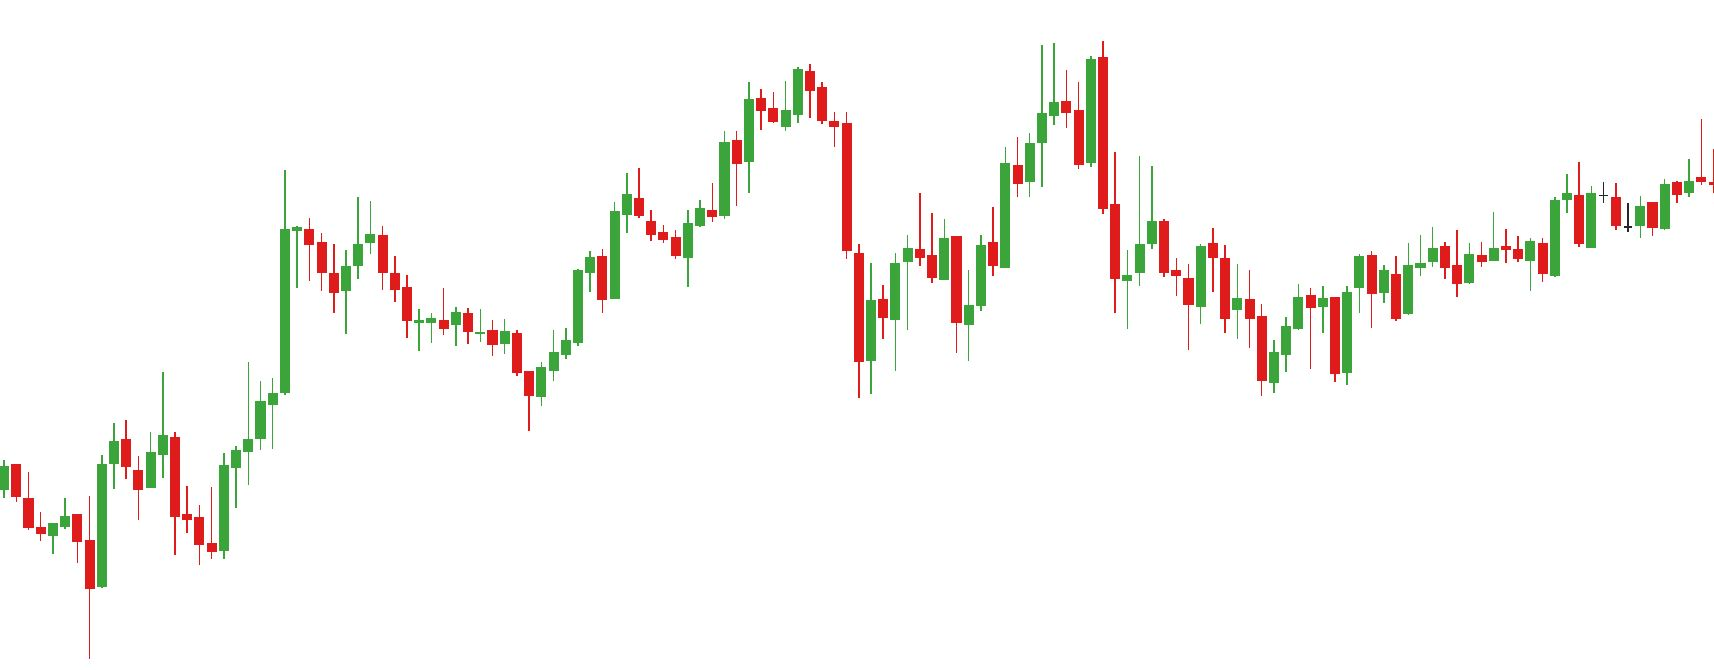buy: (682, 167, 902, 400)
